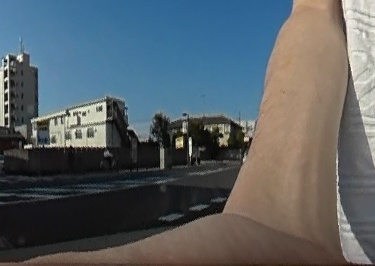person: (103, 144, 115, 169)
